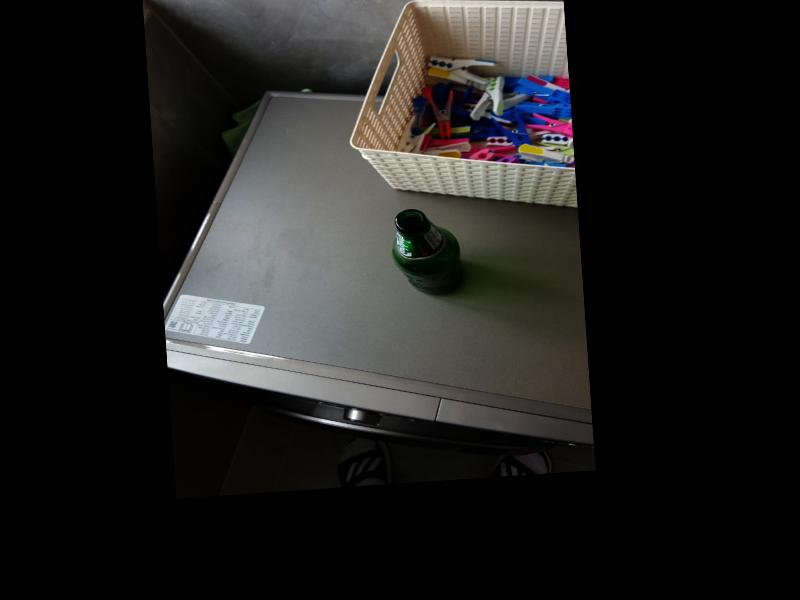Beer: (393, 207, 464, 299)
